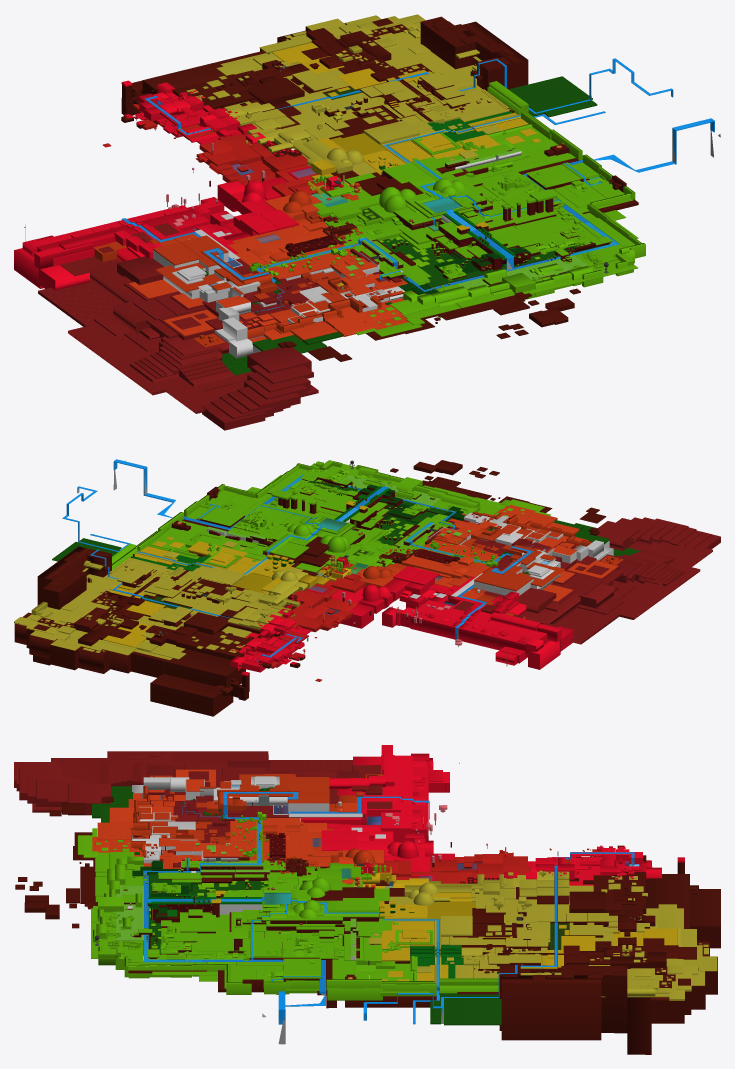
The model's file is Level2NoCollidersCombinedFinal.fbx.
3 views of the same model, one above another, from view 1: azimuth 30°, elevation 25°; view 2: azimuth 150°, elevation 25°; view 3: azimuth 270°, elevation 25° (orthographic). The views are drawn at different scales.
Parts seen in each view (by area): view 1: pCube2659; view 2: pCube2659; view 3: pCube2659.
Boxes of the visible parts, x1,y1,x2,y2 form: pCube2659: (14, 14, 720, 430); pCube2659: (14, 459, 720, 716); pCube2659: (14, 745, 720, 1054).
Bounding box in the file's own units: 825 × 119 × 811.
